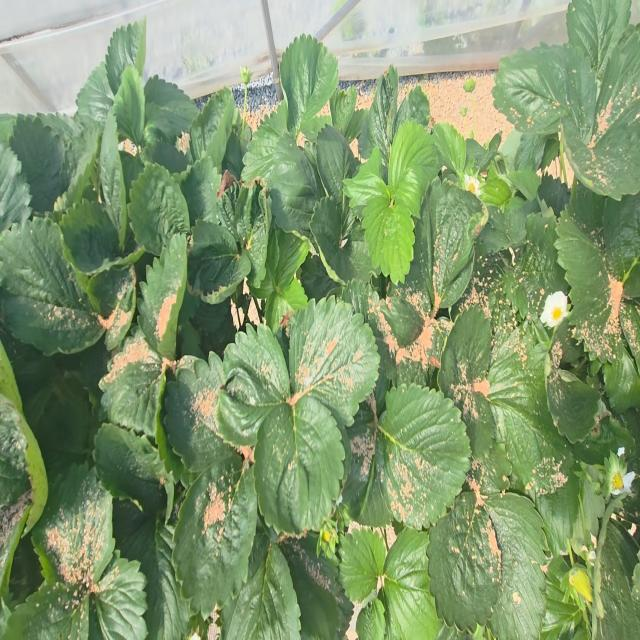Flowers: (540, 291, 567, 327), (612, 473, 623, 491)
Leaves: (0, 217, 104, 355), (487, 329, 568, 495), (379, 383, 470, 530), (173, 460, 257, 615), (255, 396, 344, 535), (289, 296, 379, 425), (32, 464, 115, 588), (427, 491, 501, 630), (555, 209, 623, 360), (492, 43, 596, 139), (414, 180, 486, 313), (438, 306, 495, 458), (218, 325, 290, 444), (488, 493, 546, 639), (121, 519, 190, 639), (164, 356, 230, 472), (221, 544, 300, 639), (94, 423, 167, 517), (99, 329, 162, 435), (563, 116, 640, 199), (383, 529, 440, 639), (138, 233, 187, 359), (280, 33, 338, 138), (508, 215, 566, 316), (128, 162, 190, 256), (267, 134, 324, 234), (10, 116, 67, 212), (311, 200, 375, 283), (188, 220, 250, 303), (545, 350, 600, 443), (362, 186, 414, 283), (598, 521, 640, 639), (4, 581, 88, 639), (596, 24, 640, 134), (388, 121, 437, 217), (60, 199, 123, 273), (358, 65, 398, 180), (94, 556, 148, 639), (567, 0, 631, 70), (604, 193, 640, 297), (145, 75, 198, 142), (339, 529, 386, 603), (190, 88, 236, 161), (236, 185, 268, 287), (317, 126, 356, 200), (0, 142, 32, 232), (105, 21, 145, 92), (344, 148, 390, 207), (113, 66, 145, 148), (76, 62, 114, 129), (431, 123, 466, 177), (330, 87, 357, 135), (356, 597, 386, 639), (219, 129, 229, 165)
Strawberries: (317, 519, 338, 558), (569, 568, 592, 603)
